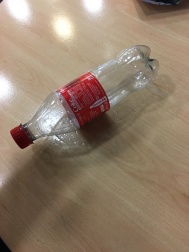bottle_red: (5, 32, 163, 162)
